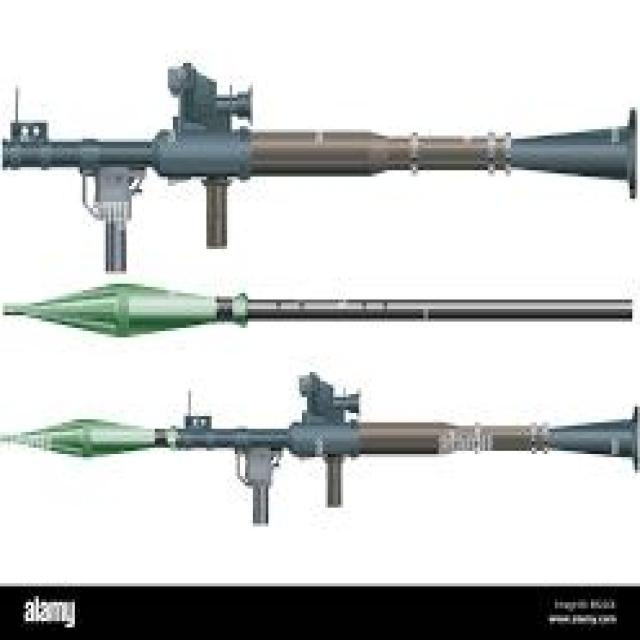Gun: (7, 67, 640, 301)
